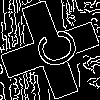C: (25, 25, 81, 76)
